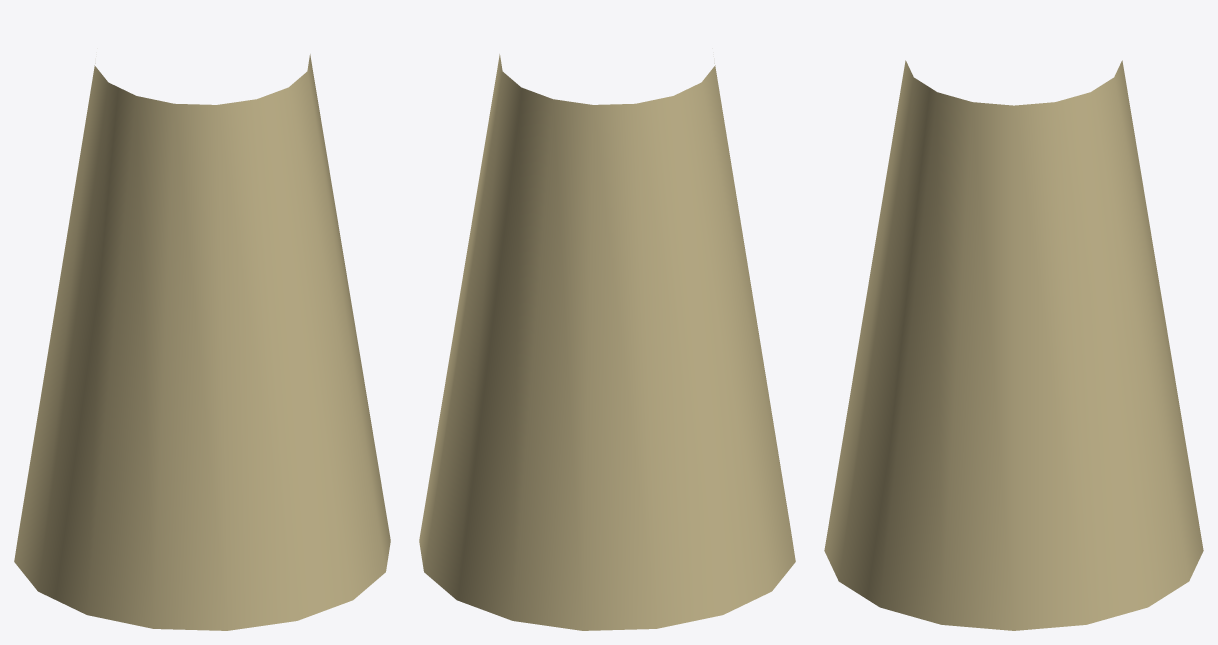
Rendered from chr_alice.glb.
3 views of the same model, side by side, from view 1: azimuth 30°, elevation 25°; view 2: azimuth 150°, elevation 25°; view 3: azimuth 270°, elevation 25° (orthographic).
Visible parts, largest first — view 1: Body_Dress; view 2: Body_Dress; view 3: Body_Dress.
Part boxes in pixels (<box>): Body_Dress: <box>14,54,390,630</box>; Body_Dress: <box>419,54,795,630</box>; Body_Dress: <box>824,60,1203,630</box>.
Size of the model in its own units: 0.7 by 1 by 0.7.
